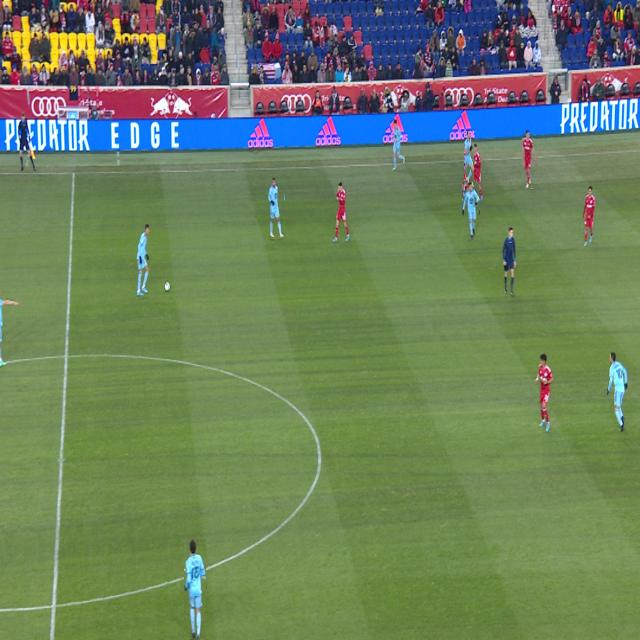football: (164, 281, 170, 292)
player: (184, 539, 206, 640), (606, 352, 628, 431), (535, 353, 553, 432), (0, 299, 19, 367), (332, 182, 349, 242), (136, 224, 150, 296), (463, 182, 479, 240), (269, 178, 284, 238), (522, 131, 537, 188), (583, 186, 595, 246), (391, 120, 405, 170), (472, 144, 483, 200), (464, 132, 474, 186)
referee: (503, 228, 517, 294)
